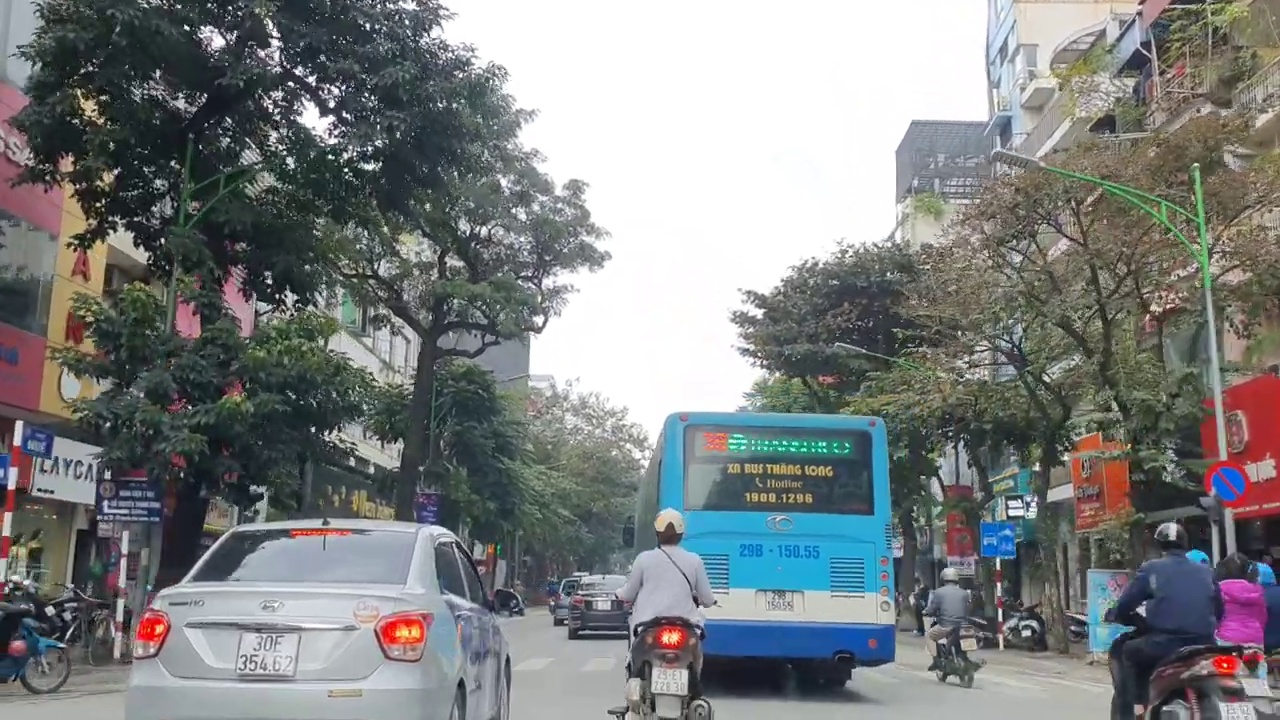vehicle-plate: (647, 662, 695, 699)
